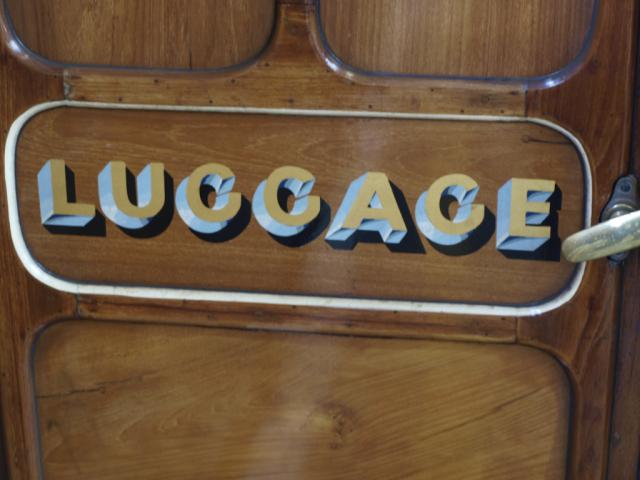Door-handle: (562, 174, 640, 264)
